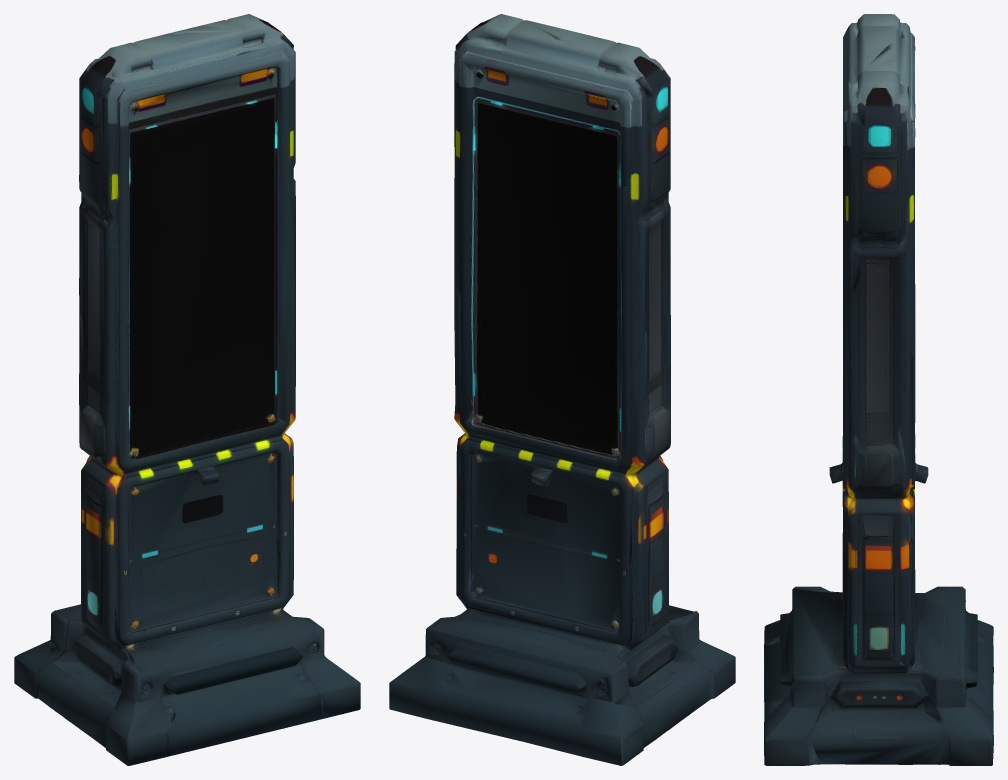
The picture shows the model from 3 angles, left to right: view 1: azimuth 30°, elevation 25°; view 2: azimuth 150°, elevation 25°; view 3: azimuth 270°, elevation 25°; orthographic projection.
Bounding box in the file's own units: 0.7055 × 1.9 × 0.598.
Materials: 1 (1 with a texture image).
